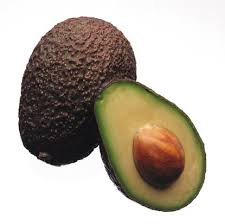aguacate: (12, 10, 136, 169)
